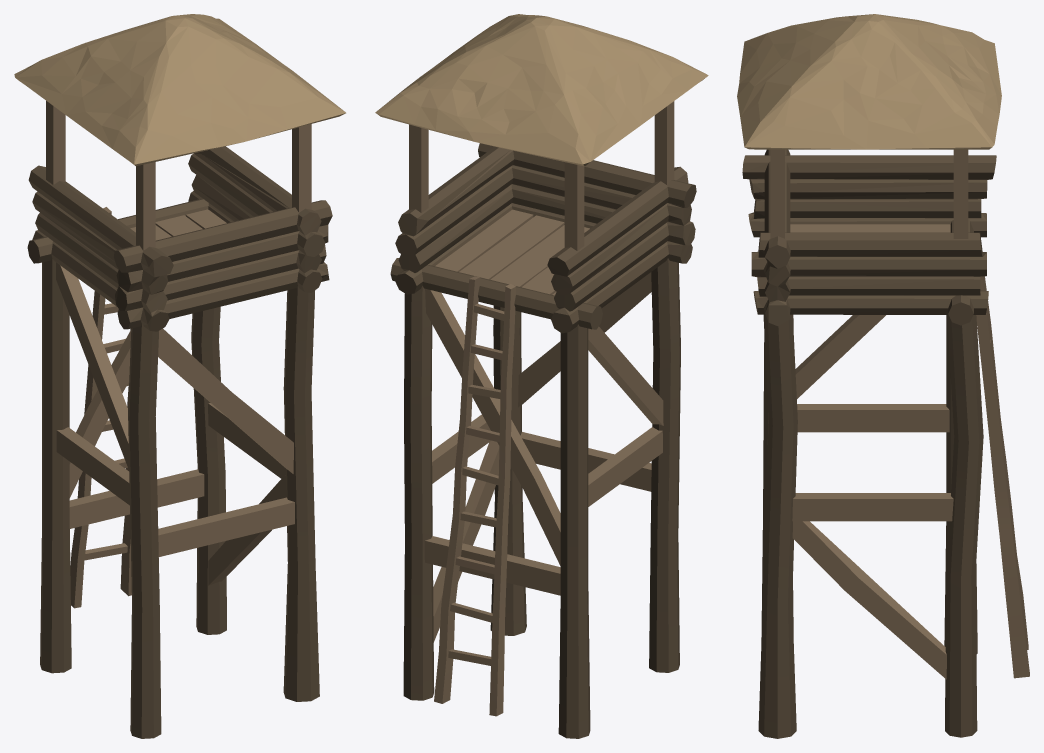
File: tower_b.FBX
3 renders of one model, left to right at view 1: azimuth 30°, elevation 25°; view 2: azimuth 150°, elevation 25°; view 3: azimuth 270°, elevation 25°, orthographic. The views are drawn at different scales.
Visible parts, largest first — view 1: tower_b; view 2: tower_b; view 3: tower_b.
Part boxes in pixels (x1,y1,x2,y2): tower_b: [14, 14, 345, 738]; tower_b: [375, 14, 708, 738]; tower_b: [737, 14, 1029, 738].
Bounding box in the file's own units: 3.46 × 10.14 × 3.99.
